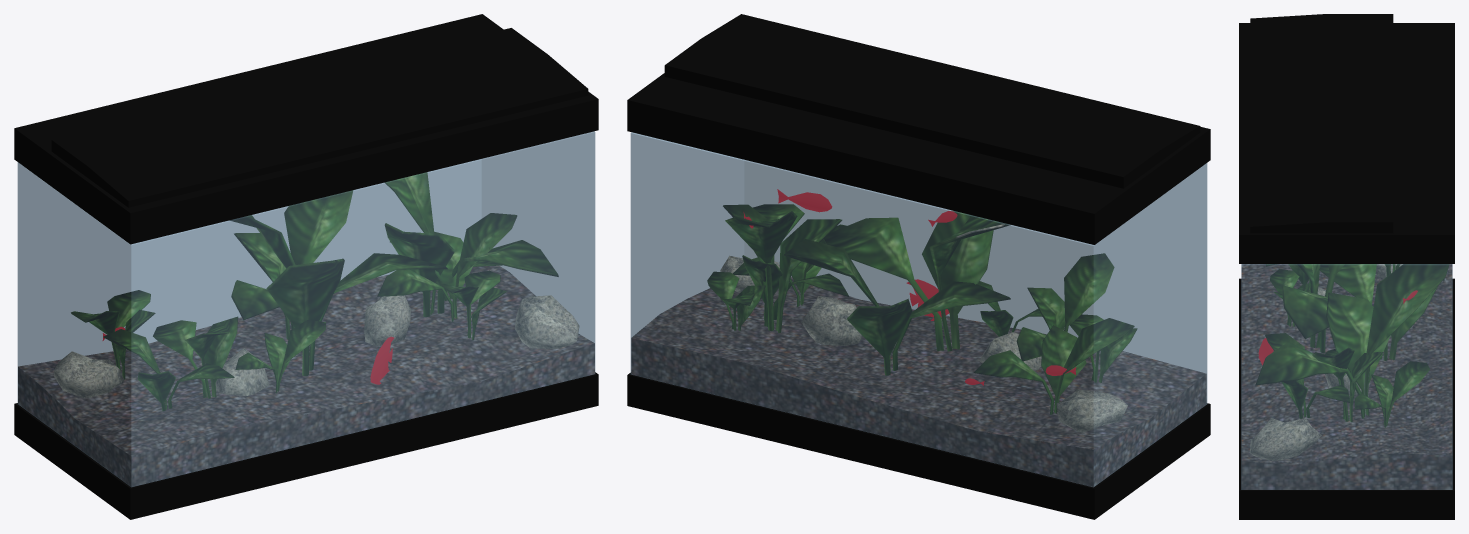
Rendered from aquarium.glb.
3 views of the same model, side by side, from view 1: azimuth 30°, elevation 25°; view 2: azimuth 150°, elevation 25°; view 3: azimuth 270°, elevation 25° (orthographic). The views are drawn at different scales.
Visible parts, largest first — view 1: table_aquarium_Baked; view 2: table_aquarium_Baked, fish; view 3: table_aquarium_Baked.
Part boxes in pixels (x1,y1,x2,y2): table_aquarium_Baked: [14, 14, 598, 519]; table_aquarium_Baked: [627, 14, 1210, 519]; fish: [777, 189, 831, 212]; table_aquarium_Baked: [1239, 14, 1454, 519].
Bounding box in the file's own units: 2.8 × 1.82 × 1.21.
2 materials, 1 textured.
